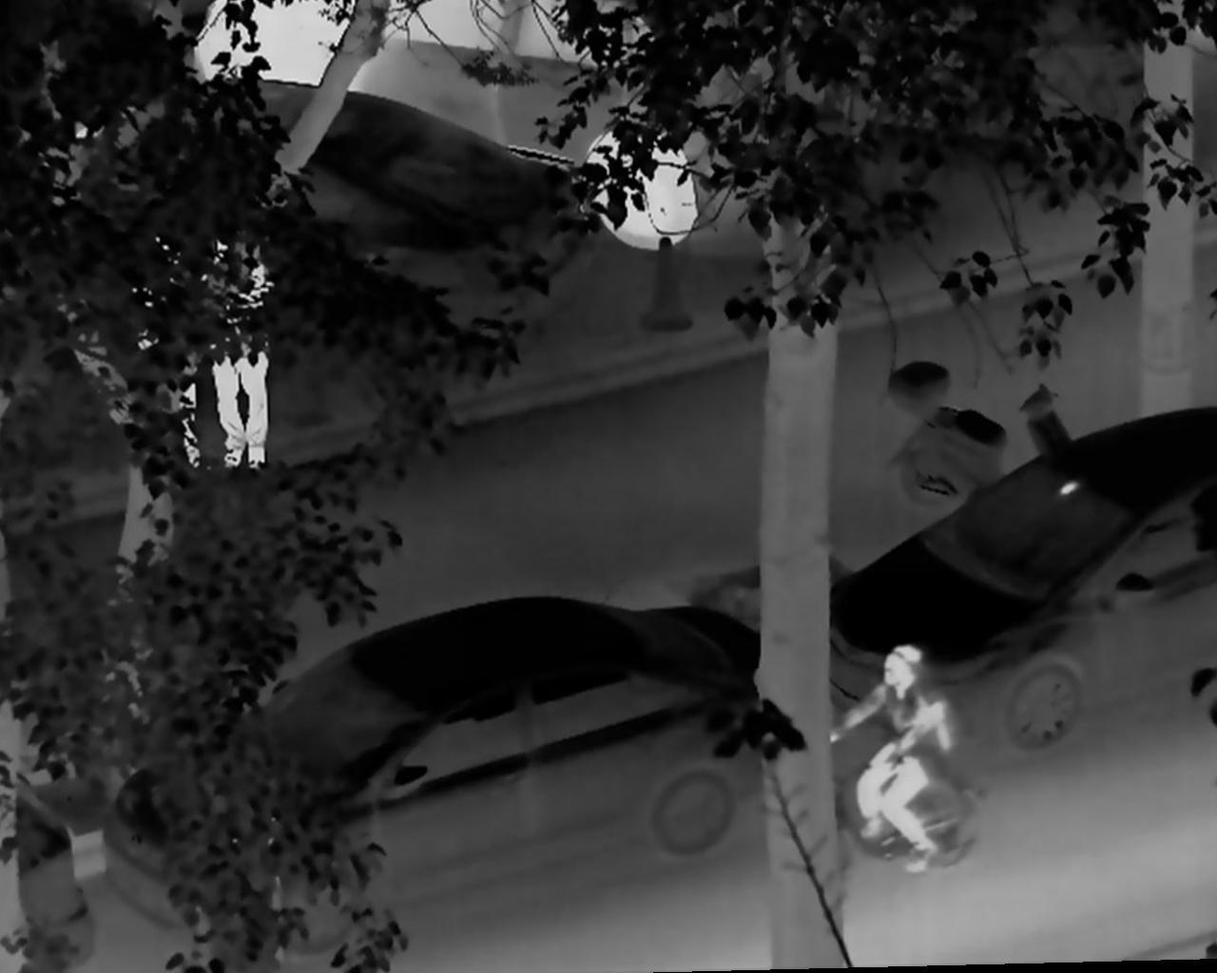person: (820, 639, 956, 879), (200, 206, 277, 475)
